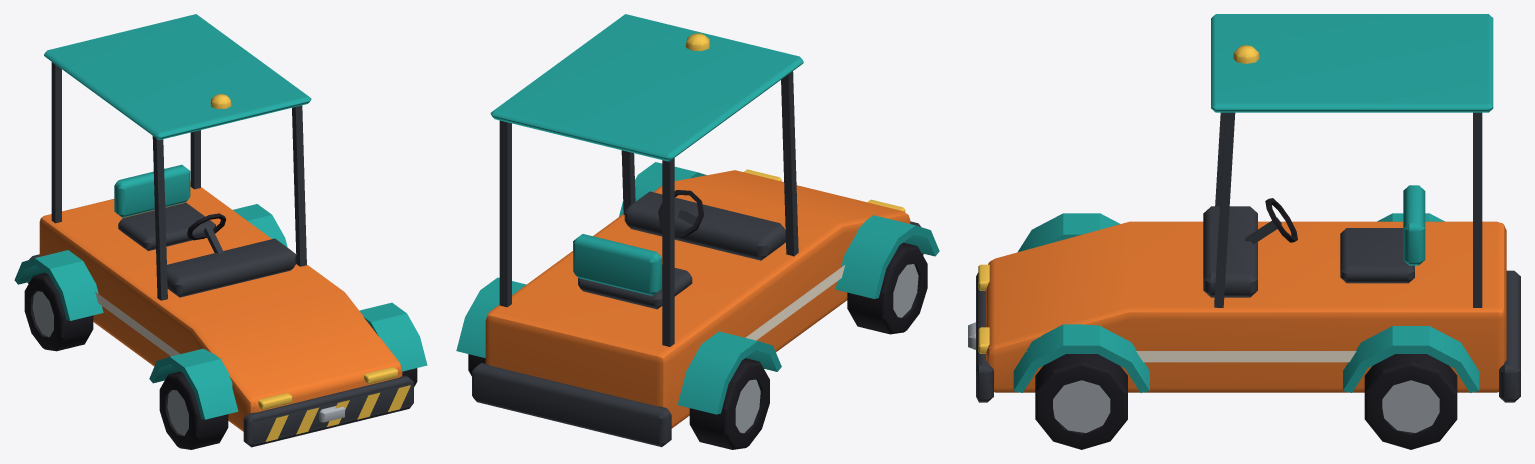
File: Tractor.fbx
3 renders of one model, left to right at view 1: azimuth 30°, elevation 25°; view 2: azimuth 150°, elevation 25°; view 3: azimuth 270°, elevation 25°, orthographic. The views are drawn at different scales.
Visible parts, largest first — view 1: Tractor; view 2: Tractor; view 3: Tractor.
Part boxes in pixels (x1,y1,x2,y2): Tractor: [14, 14, 427, 449]; Tractor: [456, 14, 939, 449]; Tractor: [968, 14, 1520, 449].
Bounding box in the file's own units: 4 × 4.76 × 7.05.
Materials: 1 (1 with a texture image).
